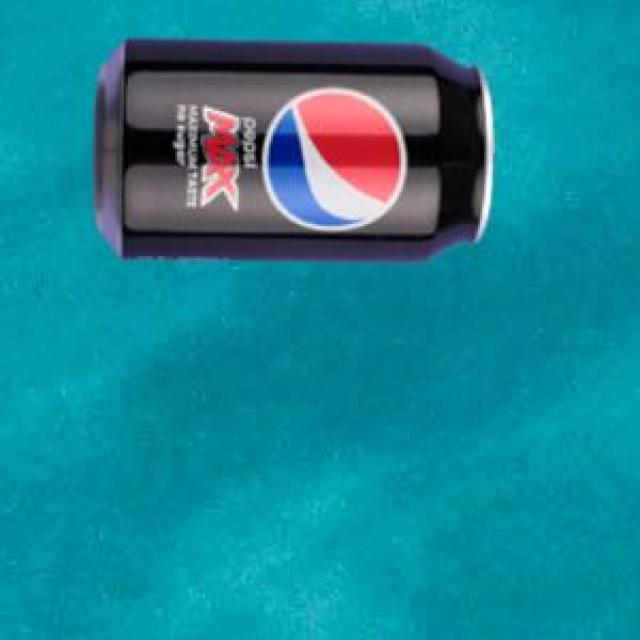logam: (91, 35, 492, 259)
